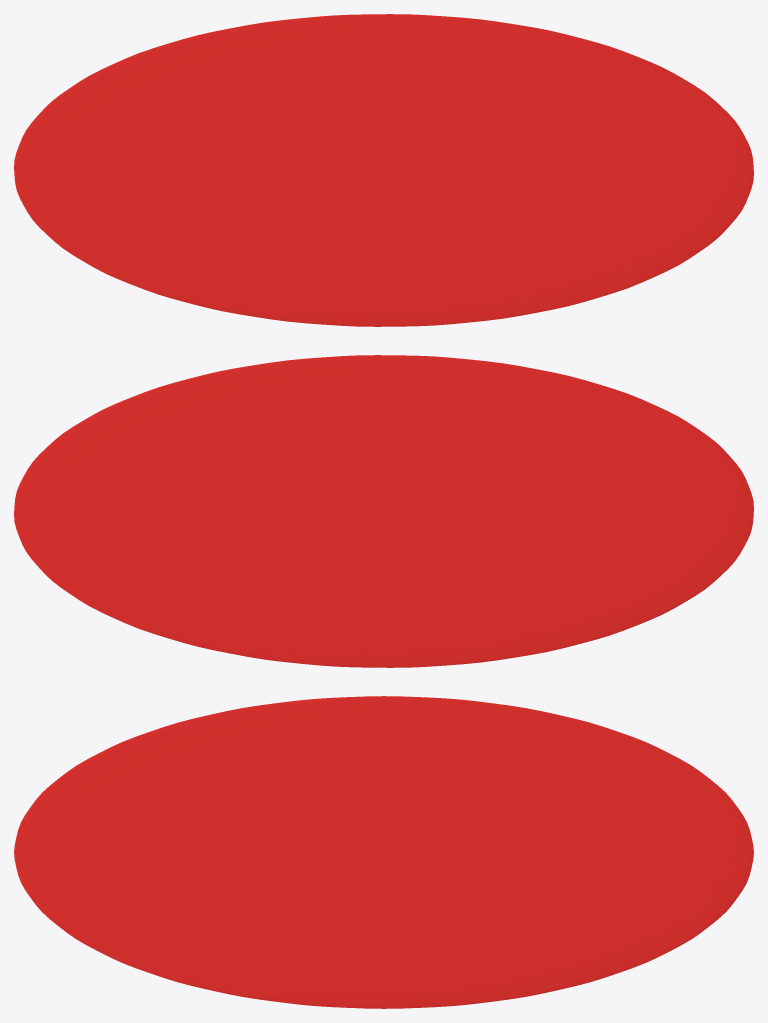
The model's file is sauce.fbx.
The picture shows the model from 3 angles, top to bottom: view 1: azimuth 30°, elevation 25°; view 2: azimuth 150°, elevation 25°; view 3: azimuth 270°, elevation 25°; orthographic projection.
Parts seen in each view (by area): view 1: Sphere.002; view 2: Sphere.002; view 3: Sphere.002.
Part boxes in pixels (x1,y1,x2,y2): Sphere.002: (14,14,753,326); Sphere.002: (14,355,753,667); Sphere.002: (14,696,753,1008).
Bounding box in the file's own units: 80.2 × 1.02 × 80.2.
